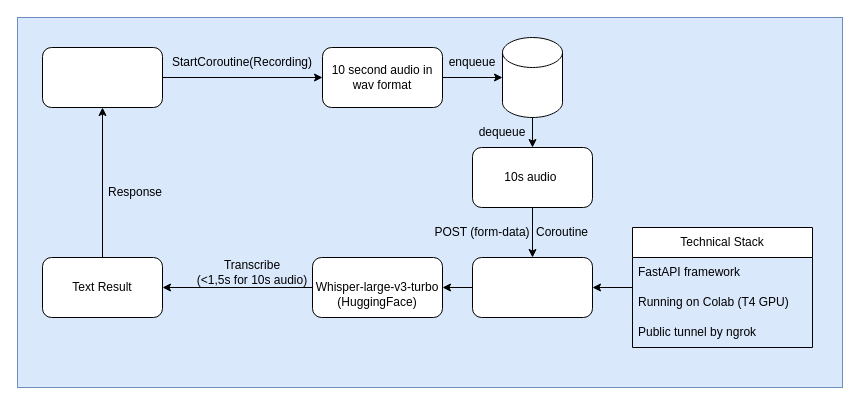
Image size: 860x405. Some labels were removed from this diagram. The shapes that lost their labels are listed below. From the top down, each one's centre as x and y in pixels, then its label:
At (x=102, y=77): "VR Headset".
At (x=532, y=77): "Queue Audio".
At (x=532, y=287): "Backend Server".
